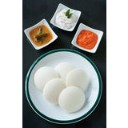idly: (59, 88, 86, 110), (44, 80, 67, 103), (34, 67, 59, 88), (67, 68, 90, 90)
